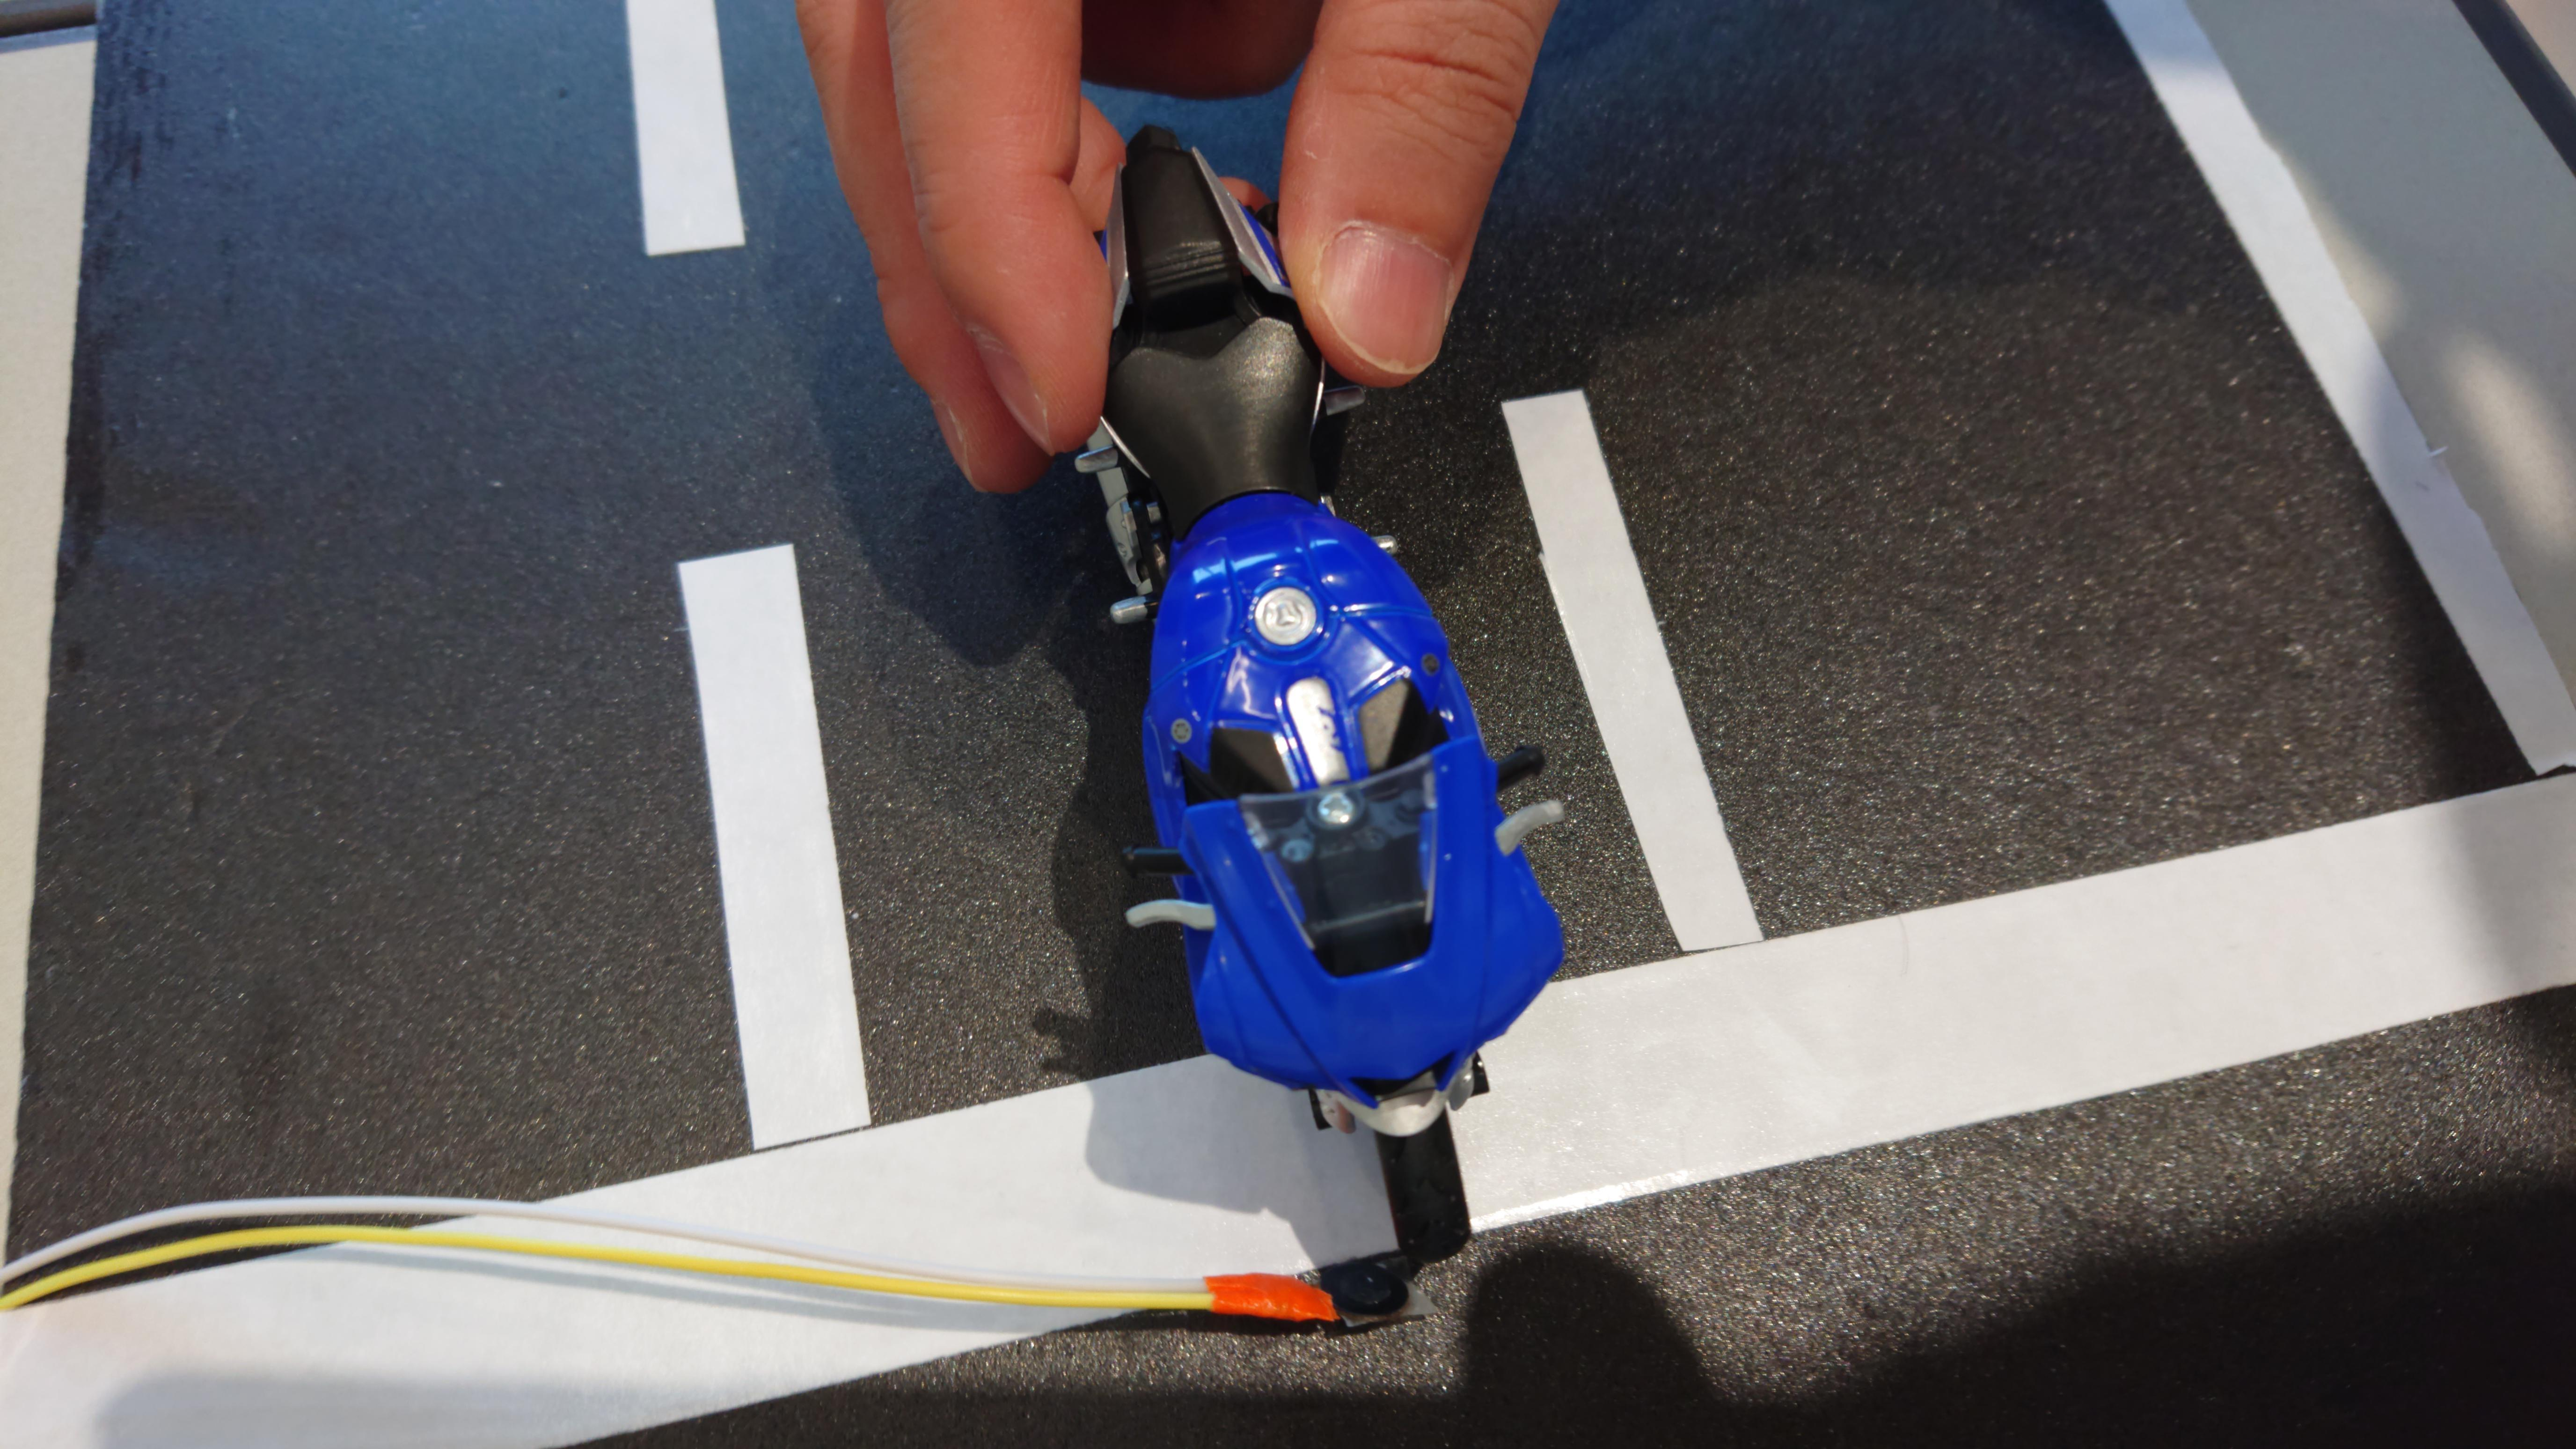Motorcycle: (1007, 81, 1603, 1300)
